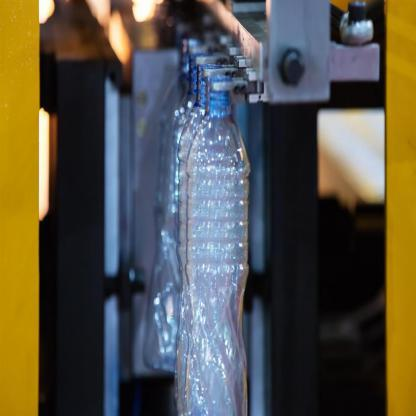bottle: (182, 84, 258, 416)
